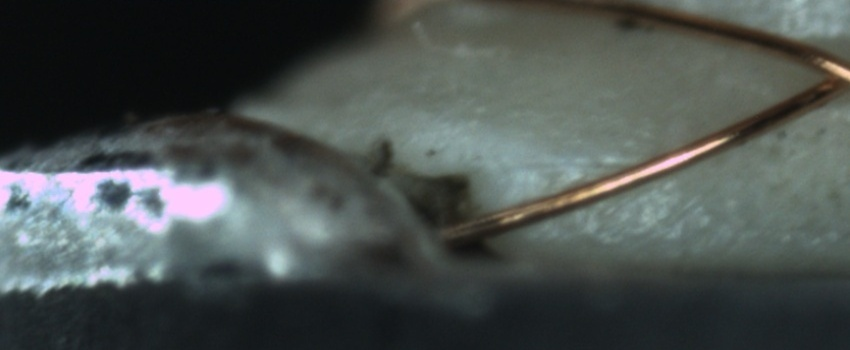CL: (796, 42, 849, 105)
DL: (508, 136, 651, 193)
